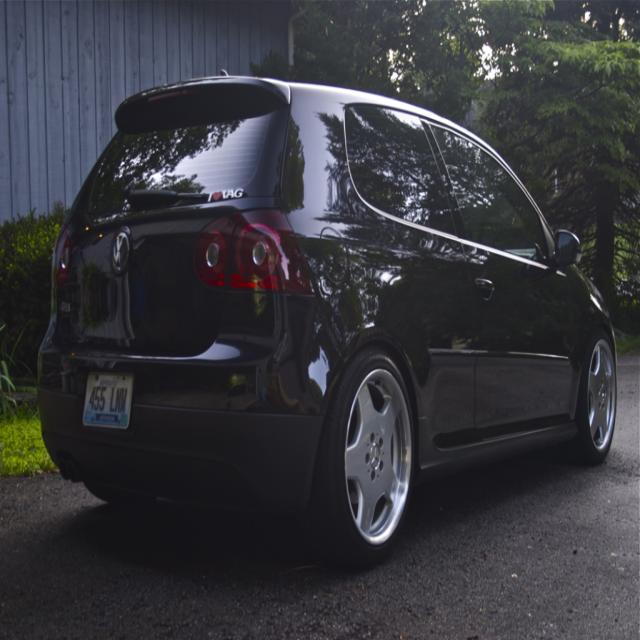car: (37, 65, 617, 568)
